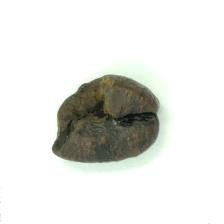NG: (50, 72, 118, 162)
